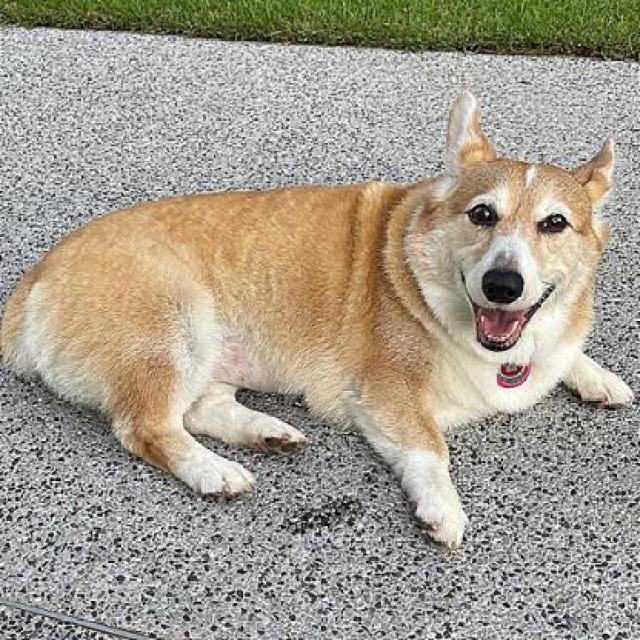Dog: (3, 88, 639, 550)
